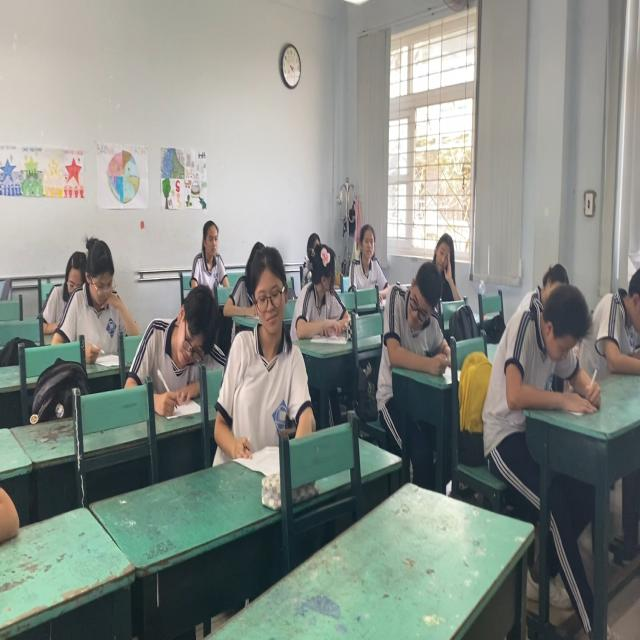cheating: (384, 259, 450, 368), (291, 235, 348, 335), (429, 229, 454, 269)
not_cheating: (228, 242, 304, 430), (507, 280, 594, 424), (60, 225, 135, 351), (144, 279, 217, 388), (596, 268, 640, 368), (344, 218, 385, 292), (188, 216, 226, 285)
